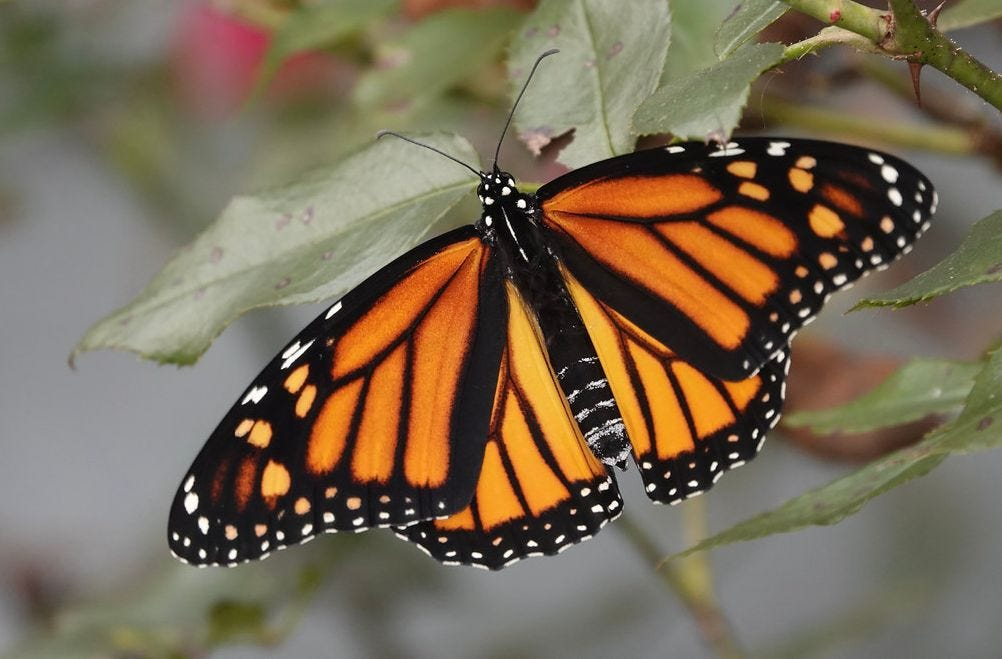Butterfly: (182, 49, 945, 572)
